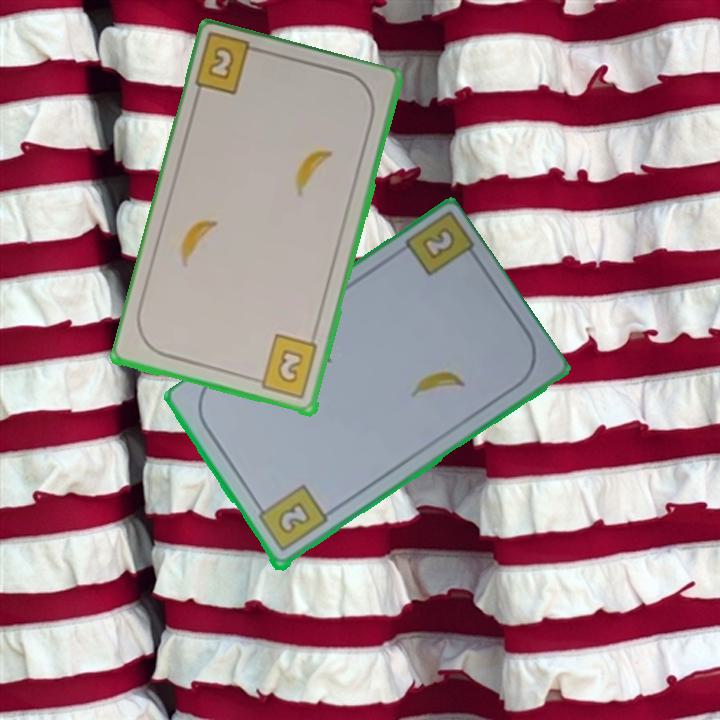2b: (252, 482, 330, 555), (249, 332, 321, 402), (192, 33, 268, 99), (418, 224, 459, 263)
